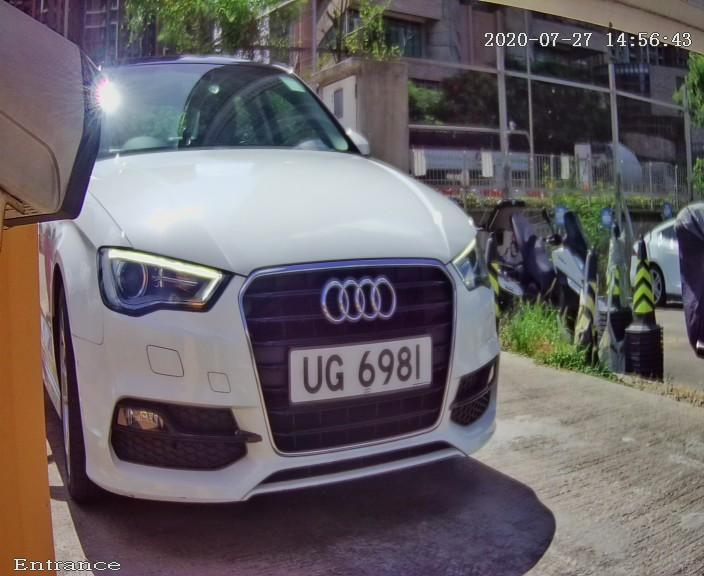privatecar: (35, 31, 516, 523)
